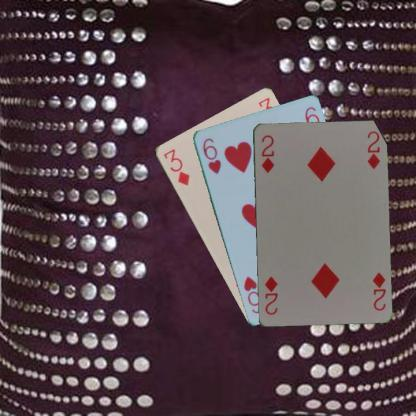2d: (369, 269, 387, 312), (258, 132, 275, 174)
3d: (160, 146, 190, 186)
6h: (200, 135, 222, 175)
